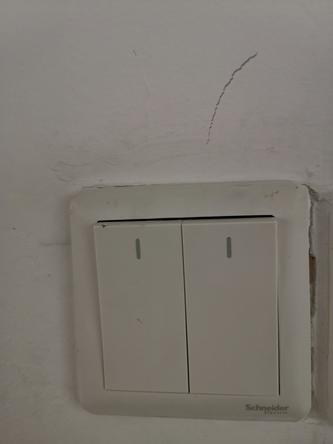switch: (176, 215, 293, 398), (90, 215, 193, 398)
